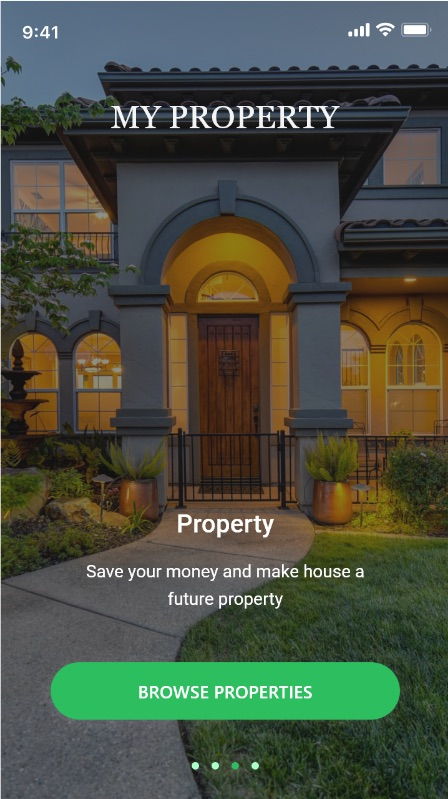BackgroundImage: (1, 1, 448, 799)
PageIndicator: (191, 761, 261, 771)
Text: (87, 564, 365, 610), (111, 106, 340, 130), (178, 514, 275, 539)
TextButton: (51, 662, 400, 720)
UpperTaskBar: (23, 23, 432, 41)
